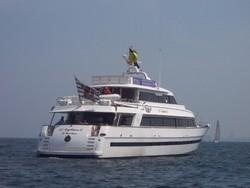yacht: (34, 45, 210, 159)
